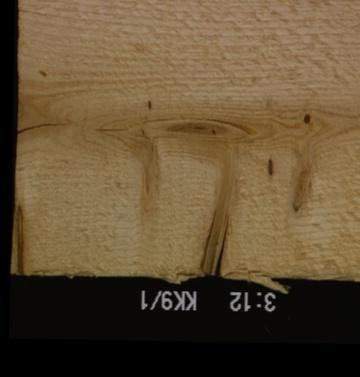dry_knot: (200, 152, 241, 276), (15, 204, 25, 274), (301, 111, 311, 125)
split: (17, 120, 71, 135), (90, 125, 130, 132)
